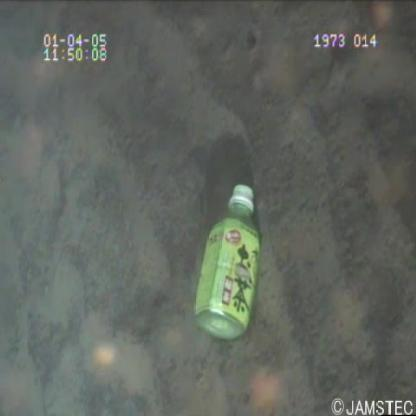Rác: (184, 169, 284, 359)
